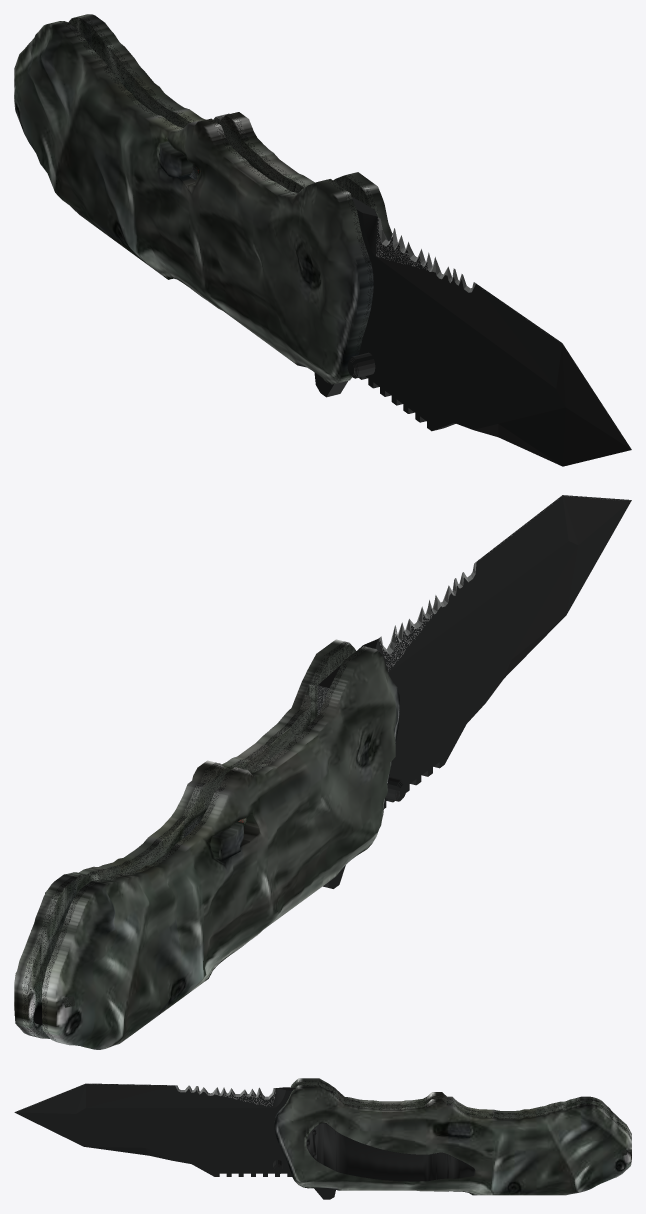
File: model_scale.obj
3 renders of one model, top to bottom at view 1: azimuth 30°, elevation 25°; view 2: azimuth 150°, elevation 25°; view 3: azimuth 270°, elevation 25°, orthographic. The views are drawn at different scales.
Parts seen in each view (by area): view 1: mesh12_mesh12-geometry, mesh1_mesh1-geometry, mesh3_mesh3-geometry, mesh18_mesh18-geometry, mesh5_mesh5-geometry, mesh2_mesh2-geometry; view 2: mesh12_mesh12-geometry, mesh1_mesh1-geometry, mesh3_mesh3-geometry, mesh18_mesh18-geometry, mesh5_mesh5-geometry, mesh2_mesh2-geometry; view 3: mesh18_mesh18-geometry, mesh1_mesh1-geometry, mesh14_mesh14-geometry, mesh5_mesh5-geometry, mesh12_mesh12-geometry, mesh3_mesh3-geometry, mesh13_mesh13-geometry.
Boxes of the visible parts, <box> form: mesh12_mesh12-geometry: <box>14,22,368,384</box>; mesh1_mesh1-geometry: <box>347,197,631,466</box>; mesh3_mesh3-geometry: <box>68,16,378,216</box>; mesh18_mesh18-geometry: <box>80,14,392,241</box>; mesh5_mesh5-geometry: <box>55,21,373,381</box>; mesh2_mesh2-geometry: <box>156,141,192,177</box>; mesh12_mesh12-geometry: <box>47,647,399,1049</box>; mesh1_mesh1-geometry: <box>317,495,631,808</box>; mesh3_mesh3-geometry: <box>22,641,355,1038</box>; mesh18_mesh18-geometry: <box>14,639,343,1037</box>; mesh5_mesh5-geometry: <box>42,646,368,1047</box>; mesh2_mesh2-geometry: <box>210,821,243,860</box>; mesh18_mesh18-geometry: <box>274,1086,631,1195</box>; mesh1_mesh1-geometry: <box>14,1083,333,1176</box>; mesh14_mesh14-geometry: <box>306,1123,475,1181</box>; mesh5_mesh5-geometry: <box>291,1080,631,1140</box>; mesh12_mesh12-geometry: <box>290,1078,631,1135</box>; mesh3_mesh3-geometry: <box>274,1085,631,1141</box>; mesh13_mesh13-geometry: <box>314,1188,335,1199</box>.
Bounding box in the file's own units: 0.0172 × 0.0423 × 0.2065.
6 materials, 1 textured.
